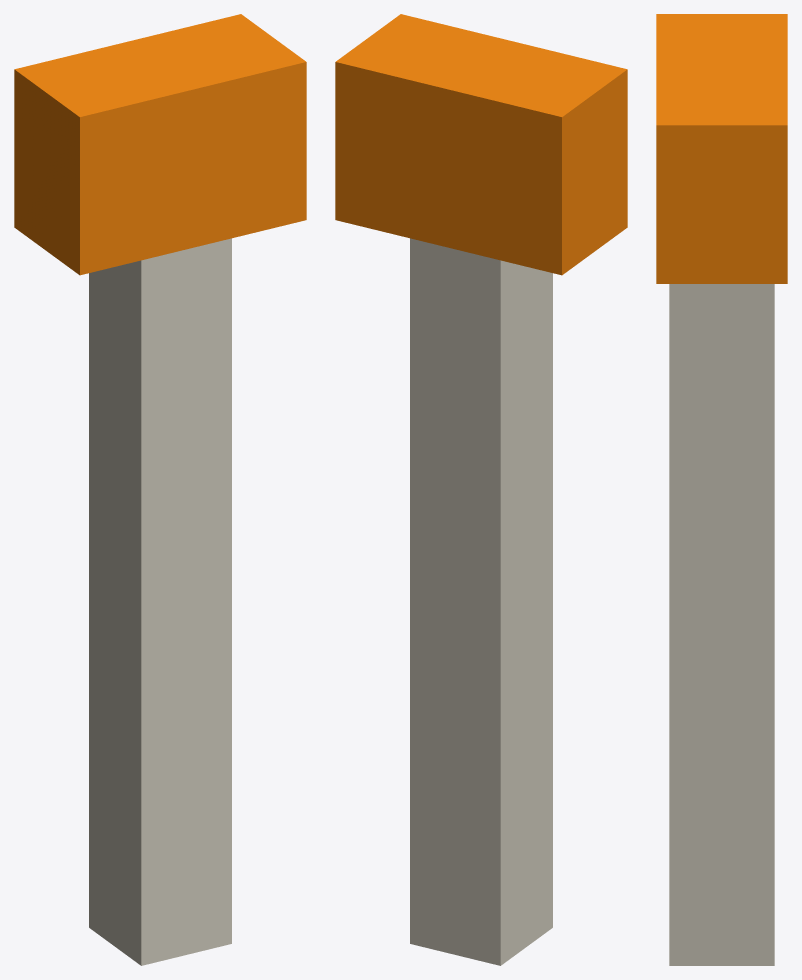
File: item_F1_Tool.obj
The picture shows the model from 3 angles, left to right: view 1: azimuth 30°, elevation 25°; view 2: azimuth 150°, elevation 25°; view 3: azimuth 270°, elevation 25°; orthographic projection.
Parts seen in each view (by area): view 1: Item_F1_Tool, Item_F1_Tool_Head; view 2: Item_F1_Tool, Item_F1_Tool_Head; view 3: Item_F1_Tool, Item_F1_Tool_Head.
Part boxes in pixels (<box>): Item_F1_Tool: <box>89,238,231,965</box>; Item_F1_Tool_Head: <box>14,14,306,275</box>; Item_F1_Tool: <box>410,238,552,965</box>; Item_F1_Tool_Head: <box>335,14,627,275</box>; Item_F1_Tool: <box>669,284,774,965</box>; Item_F1_Tool_Head: <box>656,14,787,283</box>.
Bounding box in the file's own units: 0.06 × 0.22 × 0.03.
